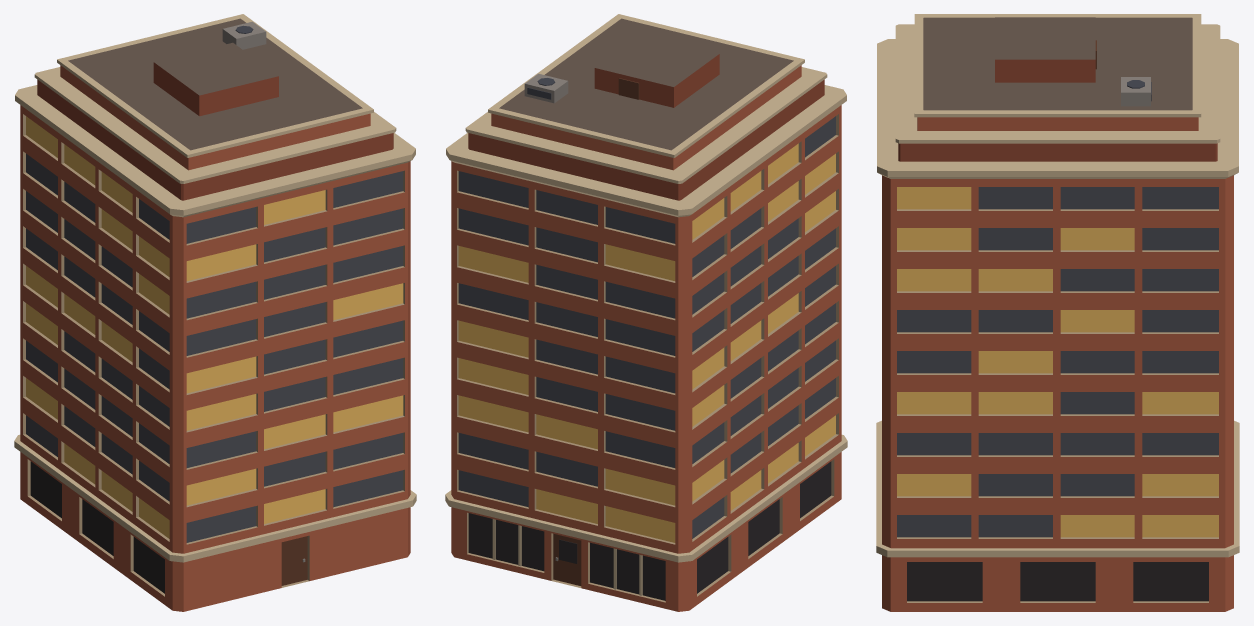
The model's file is Bldg_Tower.fbx.
3 renders of one model, left to right at view 1: azimuth 30°, elevation 25°; view 2: azimuth 150°, elevation 25°; view 3: azimuth 270°, elevation 25°, orthographic. The views are drawn at different scales.
Visible parts, largest first — view 1: Bldg_Tower; view 2: Bldg_Tower; view 3: Bldg_Tower.
Part boxes in pixels (box(x1,y1,x2,y2)): Bldg_Tower: box(14, 14, 416, 611); Bldg_Tower: box(445, 14, 847, 611); Bldg_Tower: box(876, 14, 1239, 611).
Size of the model in its own units: 2490 by 4450 by 2890.
Materials: 1 (1 with a texture image).
